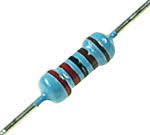resistor: (31, 30, 119, 129)
